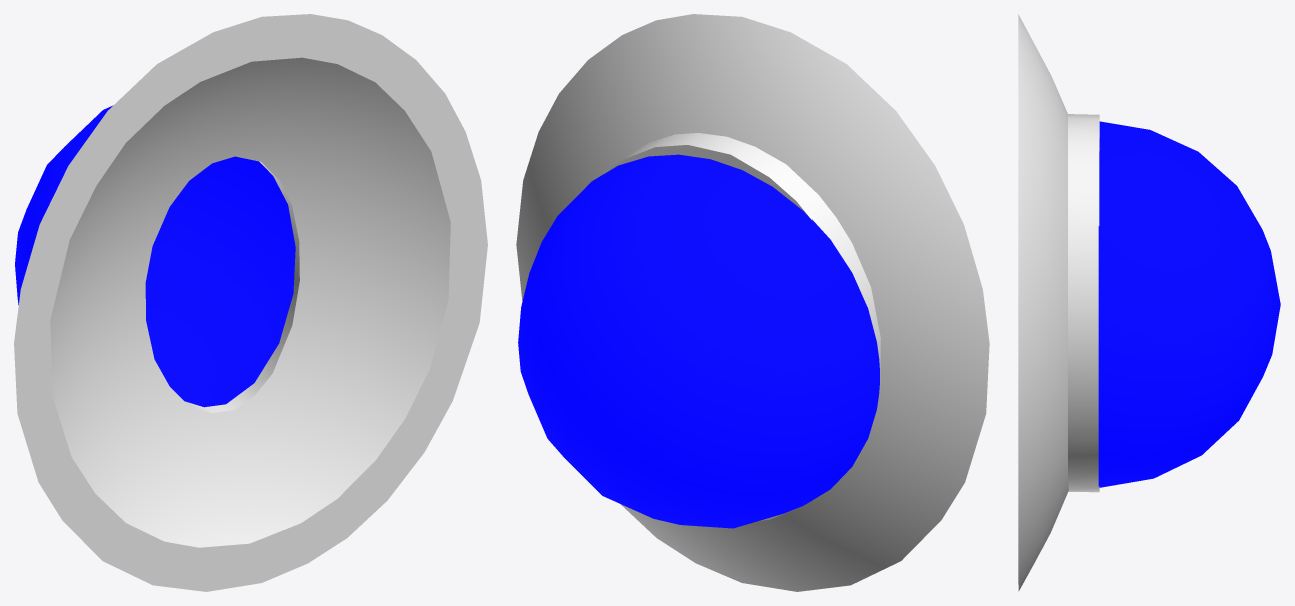
Rendered from aria_eye.dae.
3 renders of one model, left to right at view 1: azimuth 30°, elevation 25°; view 2: azimuth 150°, elevation 25°; view 3: azimuth 270°, elevation 25°, orthographic. The views are drawn at different scales.
Parts seen in each view (by area): view 1: ad9fcd6c-35b6-4e7c-86cc-58a33c809344, a22cfcaf-a389-4b8a-adb4-8c74b4074650; view 2: ad9fcd6c-35b6-4e7c-86cc-58a33c809344, a22cfcaf-a389-4b8a-adb4-8c74b4074650; view 3: a22cfcaf-a389-4b8a-adb4-8c74b4074650, ad9fcd6c-35b6-4e7c-86cc-58a33c809344.
Boxes of the visible parts, <box> form: ad9fcd6c-35b6-4e7c-86cc-58a33c809344: <box>14,14,487,591</box>; a22cfcaf-a389-4b8a-adb4-8c74b4074650: <box>15,105,295,407</box>; ad9fcd6c-35b6-4e7c-86cc-58a33c809344: <box>516,14,989,591</box>; a22cfcaf-a389-4b8a-adb4-8c74b4074650: <box>518,154,879,528</box>; a22cfcaf-a389-4b8a-adb4-8c74b4074650: <box>1098,121,1280,487</box>; ad9fcd6c-35b6-4e7c-86cc-58a33c809344: <box>1018,14,1099,591</box>.
Bounding box in the file's own units: 81.34 × 41.43 × 92.93.
